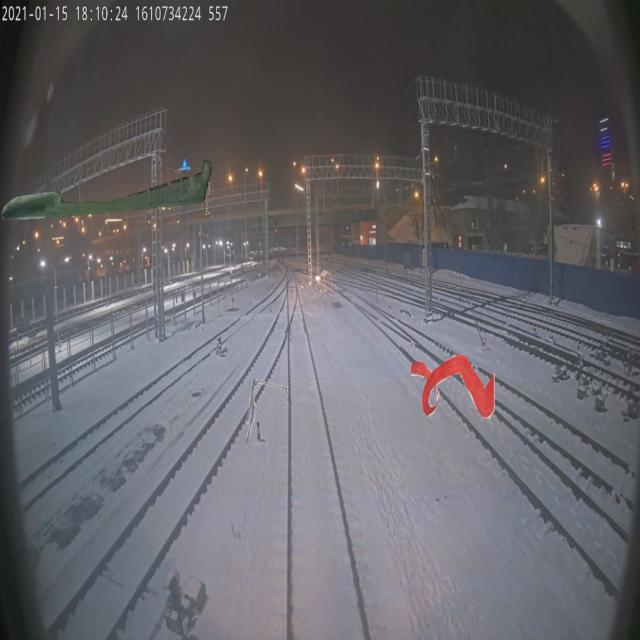floating object: (0, 156, 220, 220), (411, 354, 495, 418), (244, 379, 288, 444)
